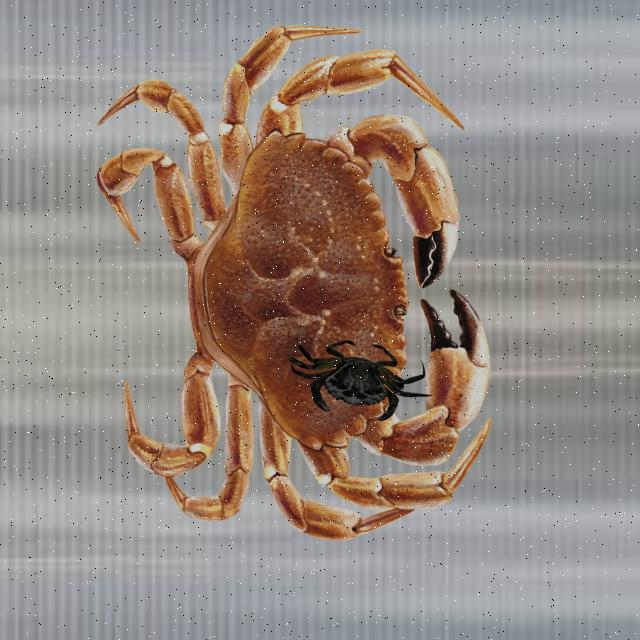European_Green_Crab: (287, 330, 435, 428)
